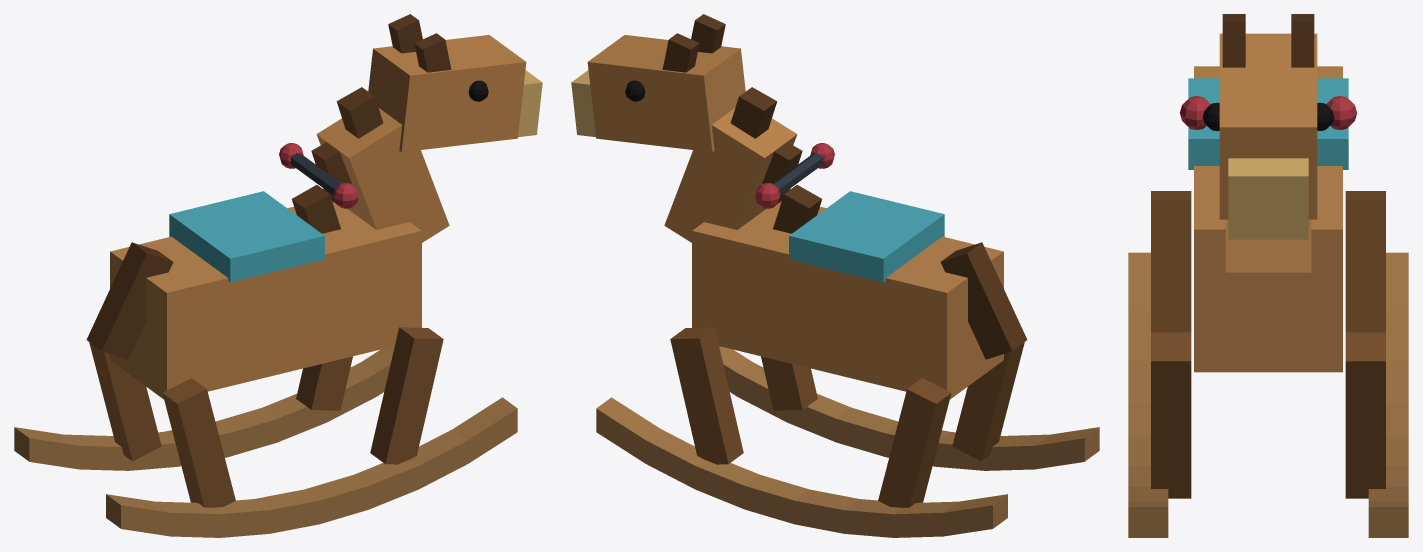
File: Garden_RockingHorse.glb
3 views of the same model, side by side, from view 1: azimuth 30°, elevation 25°; view 2: azimuth 150°, elevation 25°; view 3: azimuth 270°, elevation 25° (orthographic). The views are drawn at different scales.
Visible parts, largest first — view 1: RockingHorse; view 2: RockingHorse; view 3: RockingHorse.
Part boxes in pixels (x1=…): RockingHorse: x1=14, y1=14, x2=542, y2=537; RockingHorse: x1=571, y1=14, x2=1099, y2=537; RockingHorse: x1=1128, y1=14, x2=1408, y2=537.
Size of the model in its own units: 2.43 by 2.12 by 0.98.
